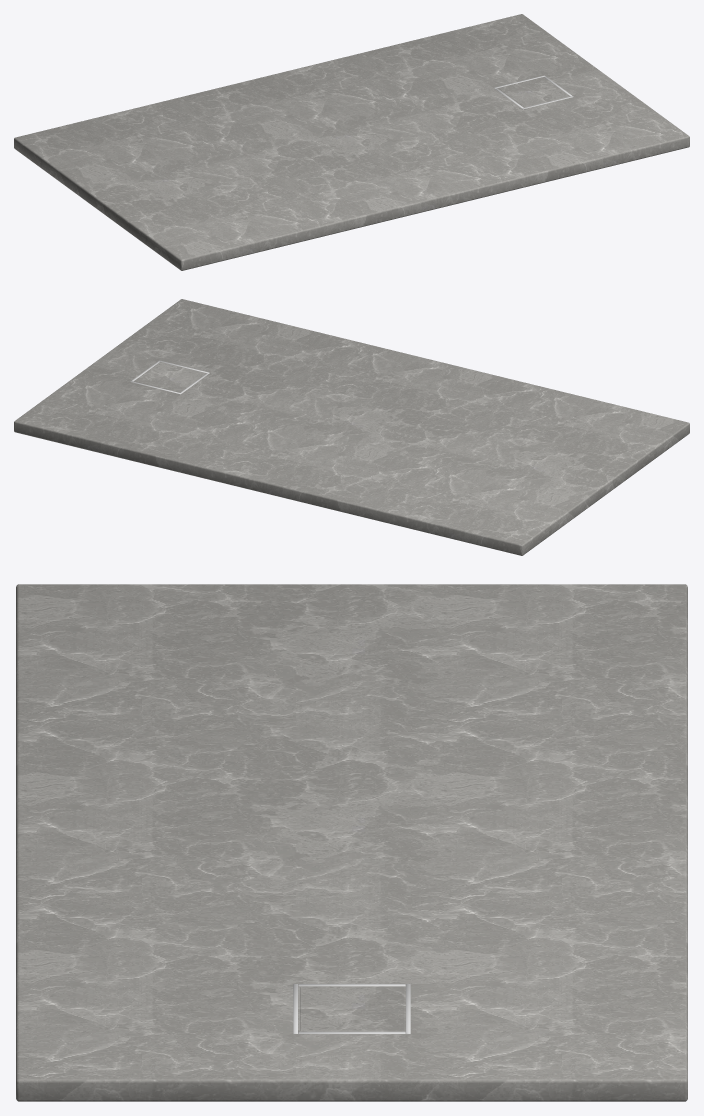
Rendered from plato_ducha_80x140_gris.glb.
3 renders of one model, top to bottom at view 1: azimuth 30°, elevation 25°; view 2: azimuth 150°, elevation 25°; view 3: azimuth 270°, elevation 25°, orthographic. The views are drawn at different scales.
Parts seen in each view (by area): view 1: plato_ducha_80x140_gris; view 2: plato_ducha_80x140_gris; view 3: plato_ducha_80x140_gris.
Boxes of the visible parts, box(x1,y1,x2,y2) form: plato_ducha_80x140_gris: box(14, 14, 689, 270); plato_ducha_80x140_gris: box(14, 299, 689, 555); plato_ducha_80x140_gris: box(16, 584, 687, 1101).
Bounding box in the file's own units: 1.4 × 0.0304 × 0.8001.
2 materials, 1 textured.
